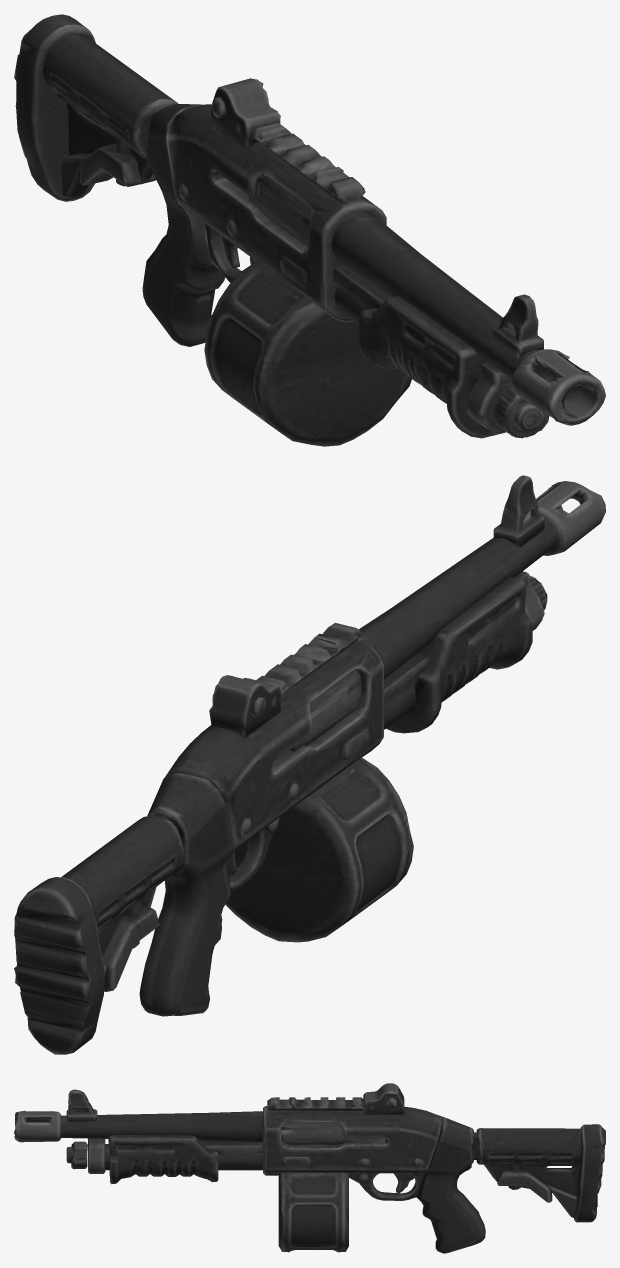
File: auto_shotgun.glb
3 renders of one model, top to bottom at view 1: azimuth 30°, elevation 25°; view 2: azimuth 150°, elevation 25°; view 3: azimuth 270°, elevation 25°, orthographic. The views are drawn at different scales.
Visible parts, largest first — view 1: w_auto_shotgun; view 2: w_auto_shotgun; view 3: w_auto_shotgun.
Boxes of the visible parts, x1=… form: w_auto_shotgun: x1=14, y1=14, x2=605, y2=446; w_auto_shotgun: x1=14, y1=475, x2=605, y2=1054; w_auto_shotgun: x1=14, y1=1083, x2=605, y2=1253.
Size of the model in its own units: 0.1342 by 0.2435 by 0.8.
Materials: 1 (1 with a texture image).
